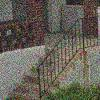stairs: (10, 49, 82, 98)
